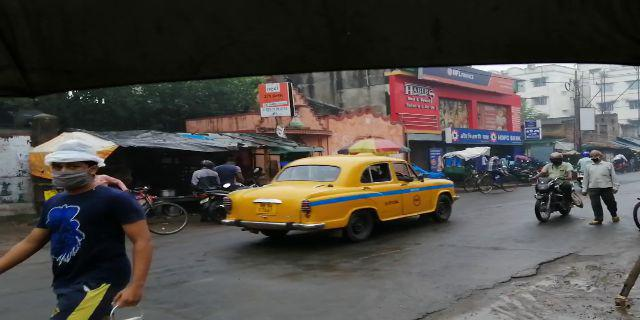Car: (217, 160, 459, 242)
Motorbike: (524, 152, 581, 222)
